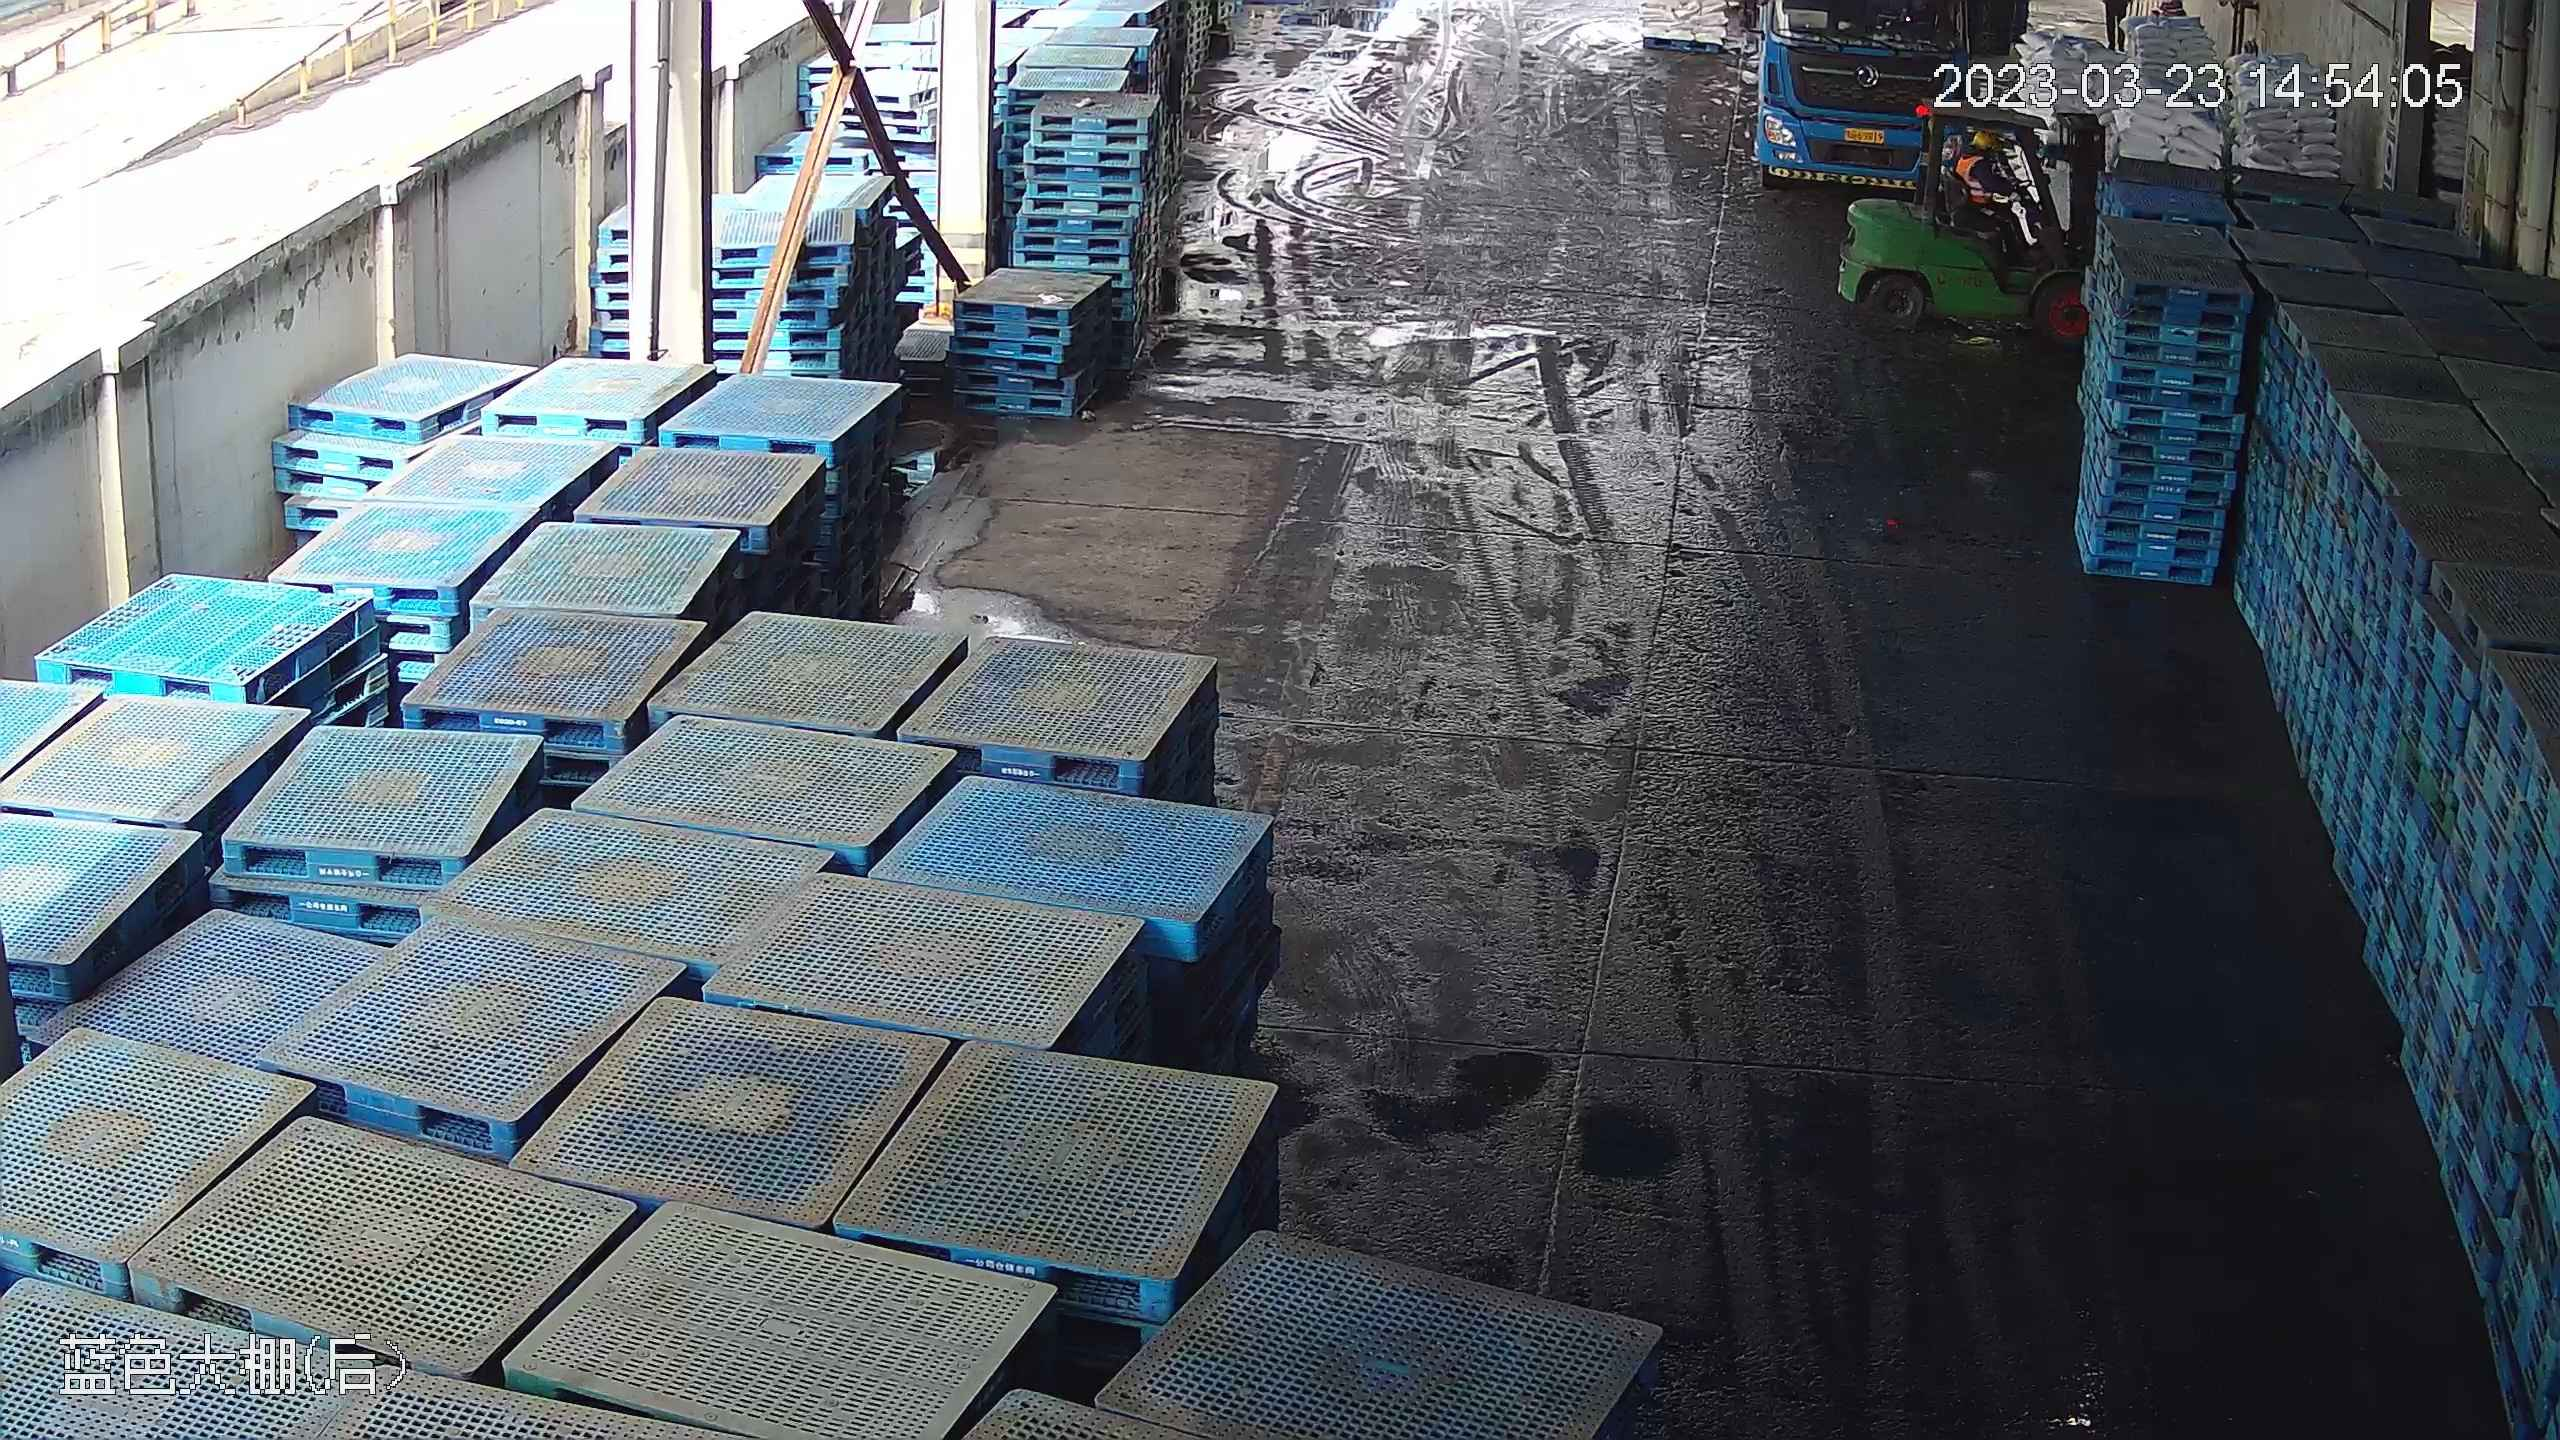head: (1959, 129, 2013, 180)
helmet: (1966, 130, 1999, 156)
people: (1956, 125, 2042, 254)
truck: (1745, 0, 1972, 189)
